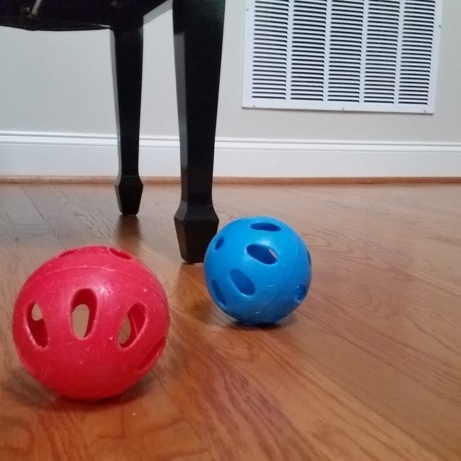blueball: (200, 212, 315, 328)
redball: (8, 241, 177, 404)
